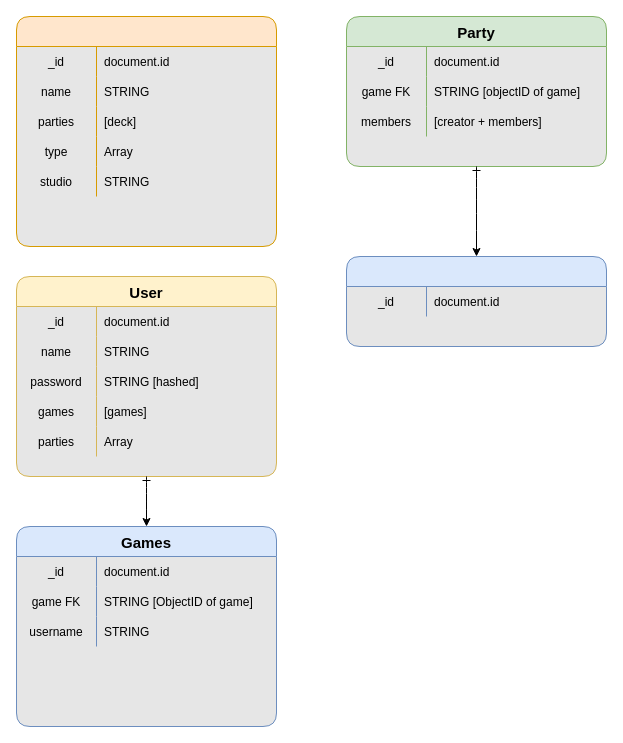
This 623x743 diagram has some shape labels left out. The box of each missing label's shape, as (x1, y1, x2, y2) in pixels:
Game: (16, 16, 276, 246)
Member: (346, 256, 606, 346)
